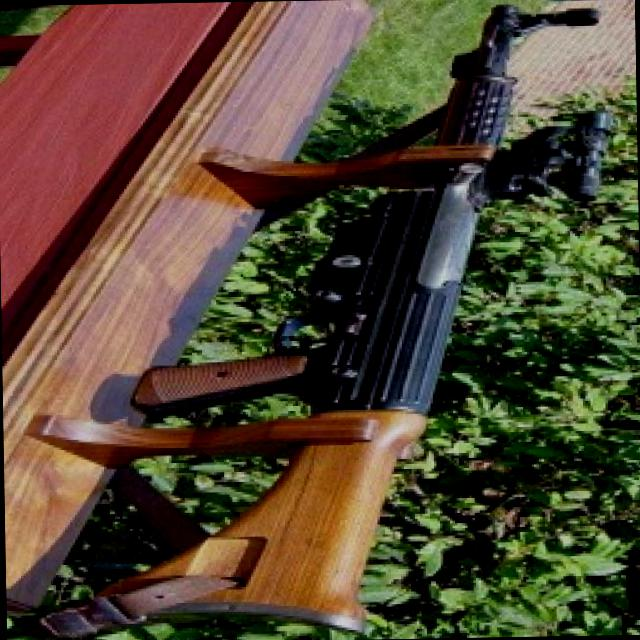long weapon: (101, 1, 622, 639)
